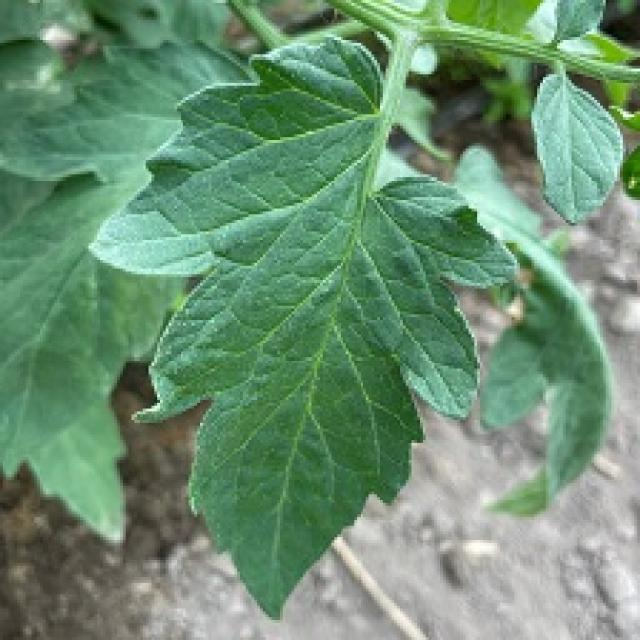Healthy: (1, 0, 625, 616), (524, 64, 633, 227)
